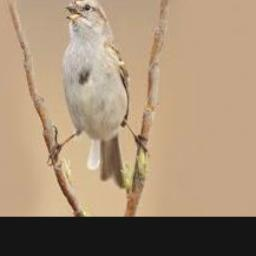Sparrow: (47, 0, 147, 187)
